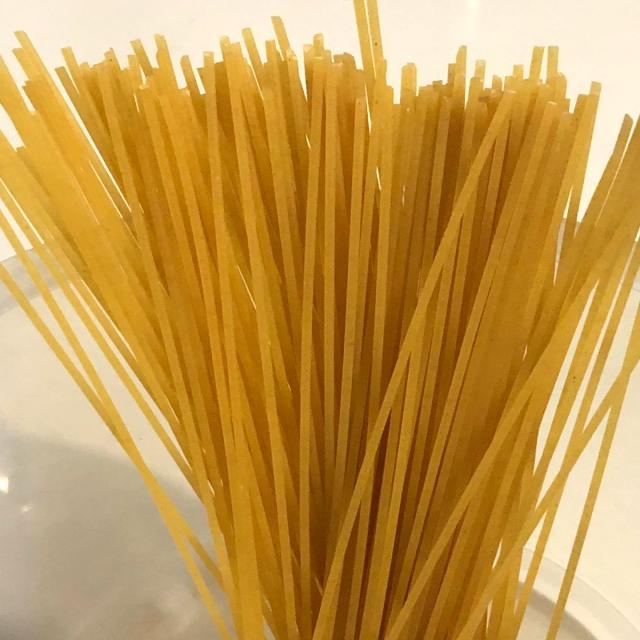spaghetti: (1, 0, 640, 640)
